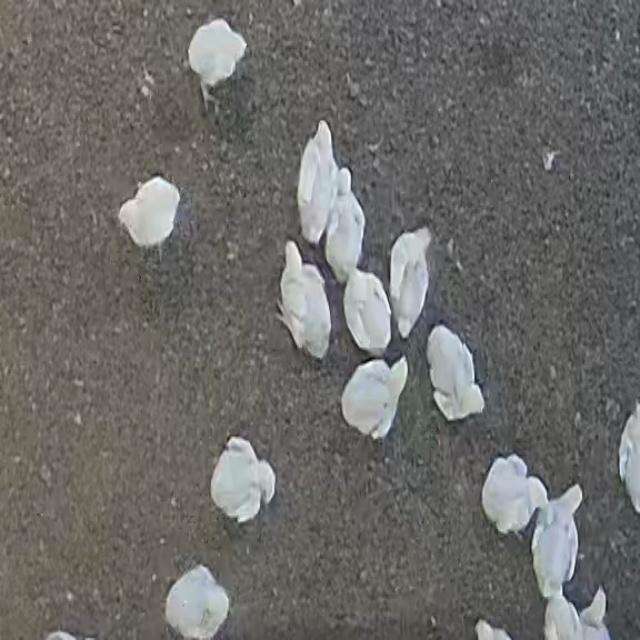chicken: (278, 242, 332, 358), (212, 436, 276, 524), (427, 324, 484, 421), (341, 356, 406, 440), (531, 491, 583, 594), (297, 120, 339, 246), (480, 454, 542, 538), (188, 17, 246, 105), (164, 566, 230, 640), (324, 172, 367, 282), (390, 225, 432, 336), (118, 176, 182, 248), (343, 266, 394, 356)
